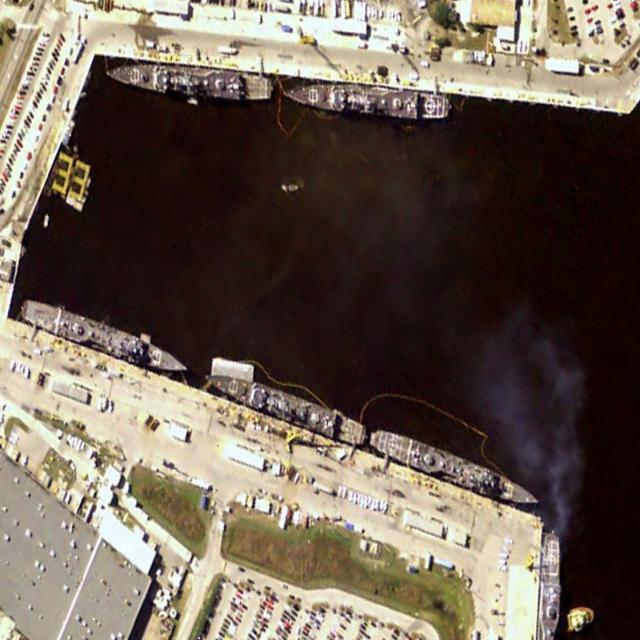Frigate: (366, 423, 541, 513), (18, 292, 190, 382), (202, 365, 367, 447), (103, 56, 274, 103), (283, 77, 451, 122)
